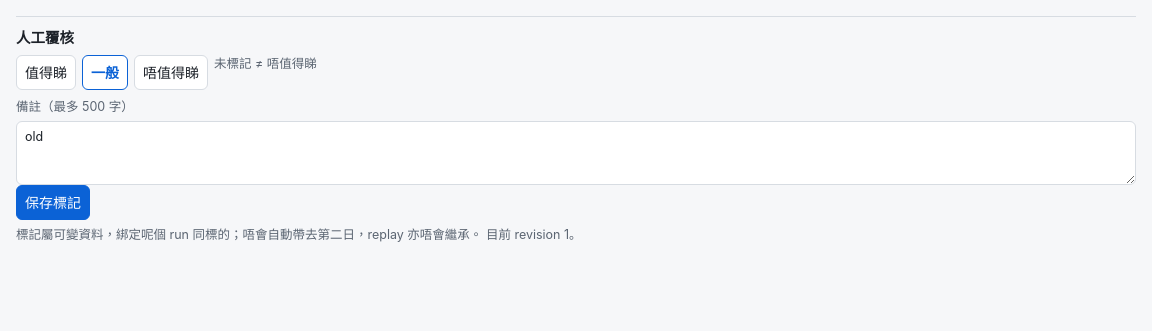
Test: ReviewPanel › reloads a 409 baseline, then requires explicitly reapplying the draft
This screenshot has width=1152, height=331.
Expected: the text "標記屬可變資料，綁定呢個 run 同標的；唔會自動帶去第二日，replay 亦唔會繼承。 目前 revision 1。" is shown, 16,226 -> 582,242
Replace the text in the text box labelled "備註（最多 500 字）" with "保留輸入" at (576, 152), box 16,120 -> 1136,184
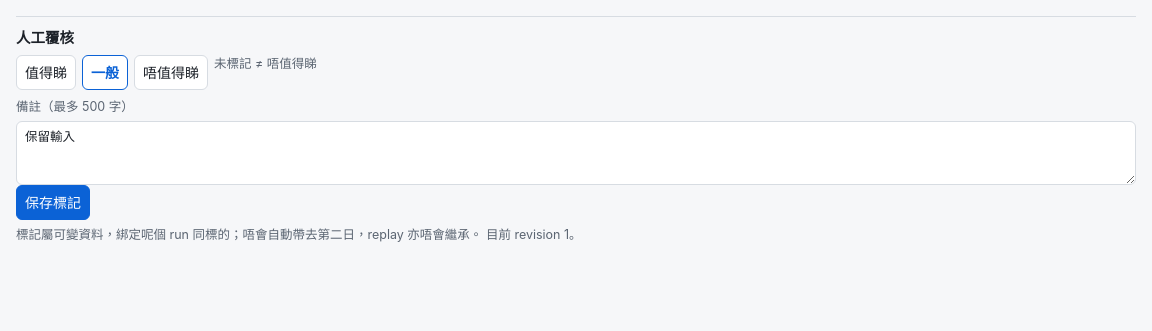
Click the button "值得睇".
click(46, 72)  # box 16,55 -> 76,90
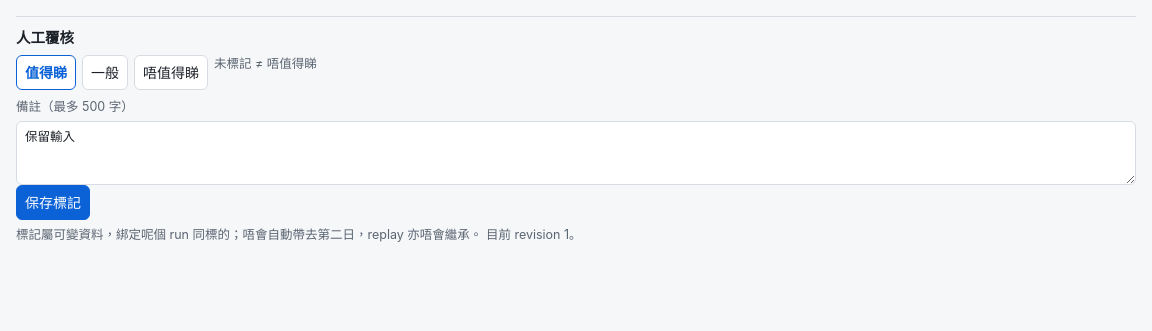
Click the button "保存標記".
click(53, 202)  # box 16,184 -> 90,220
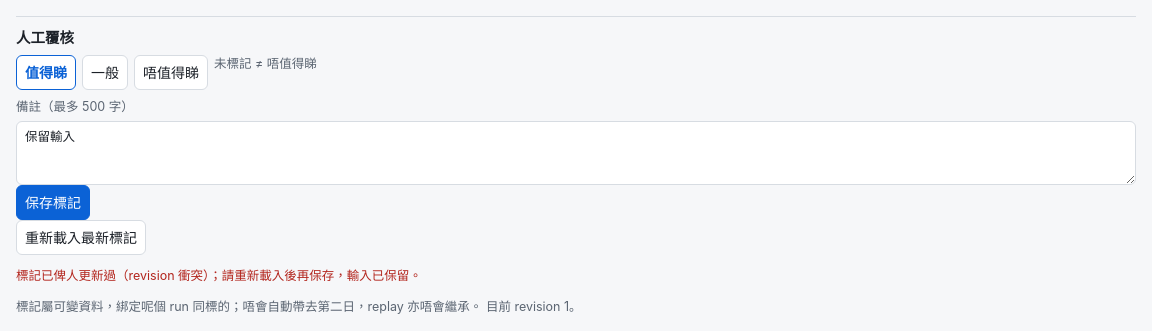
Result: the text "標記已俾人更新過（revision 衝突）；請重新載入後再保存，輸入已保留。" is shown at 16,268 -> 422,283
Click the button "重新載入最新標記".
click(81, 237)  # box 16,220 -> 146,254
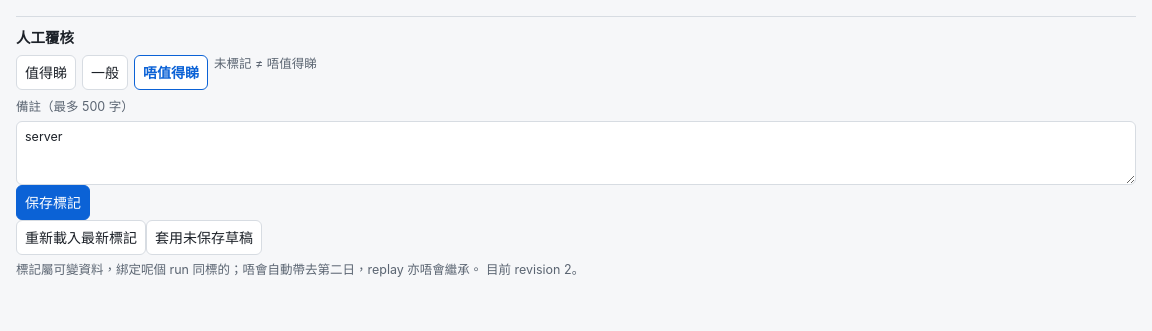
Result: the text box showing "server" is shown at 16,120 -> 1136,184
Click the button "套用未保存草稿".
click(204, 237)  # box 146,220 -> 262,254
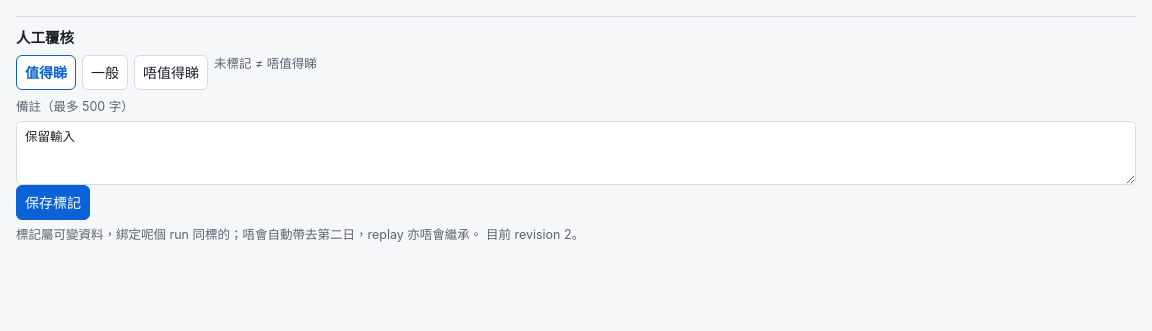
Click the button "保存標記".
click(53, 202)  # box 16,184 -> 90,220
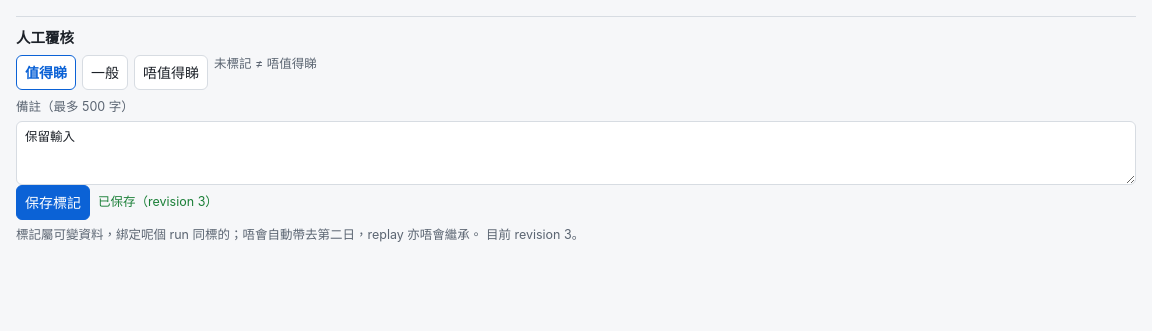
Result: the text "已保存（revision 3）" is shown at 98,193 -> 218,211
